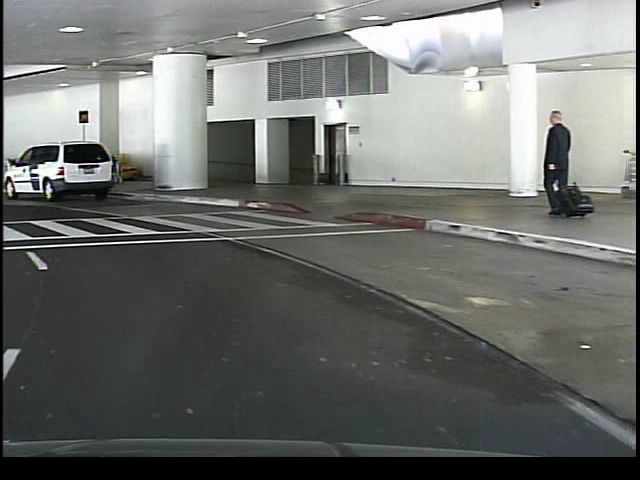person: (535, 104, 573, 222)
